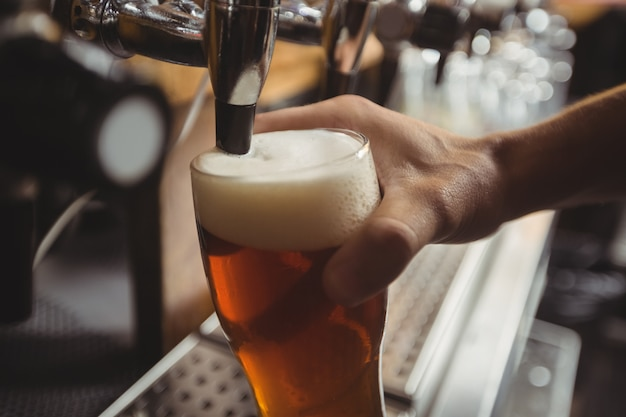alcohol: (188, 125, 391, 417)
